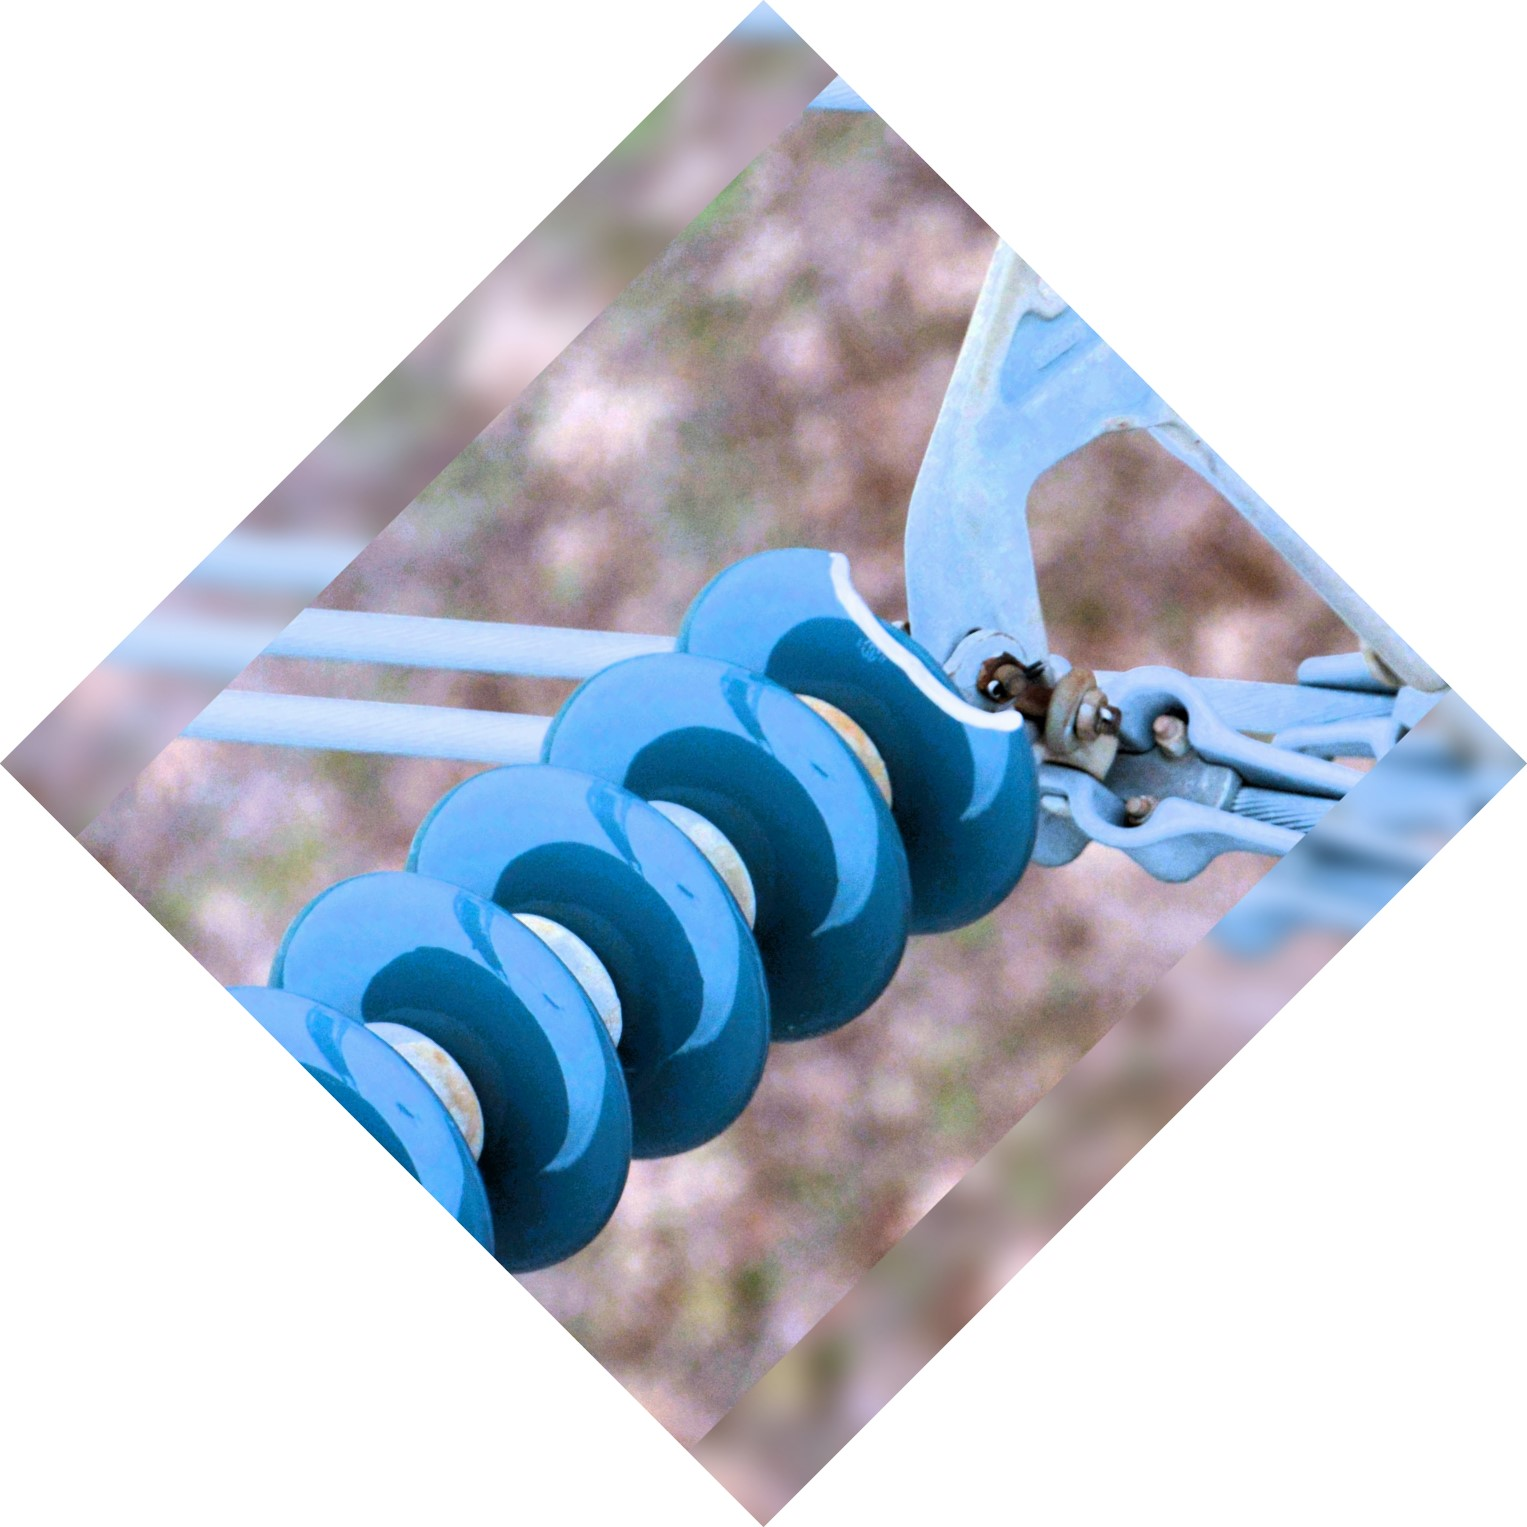insulator breakage: (670, 515, 1057, 975)
